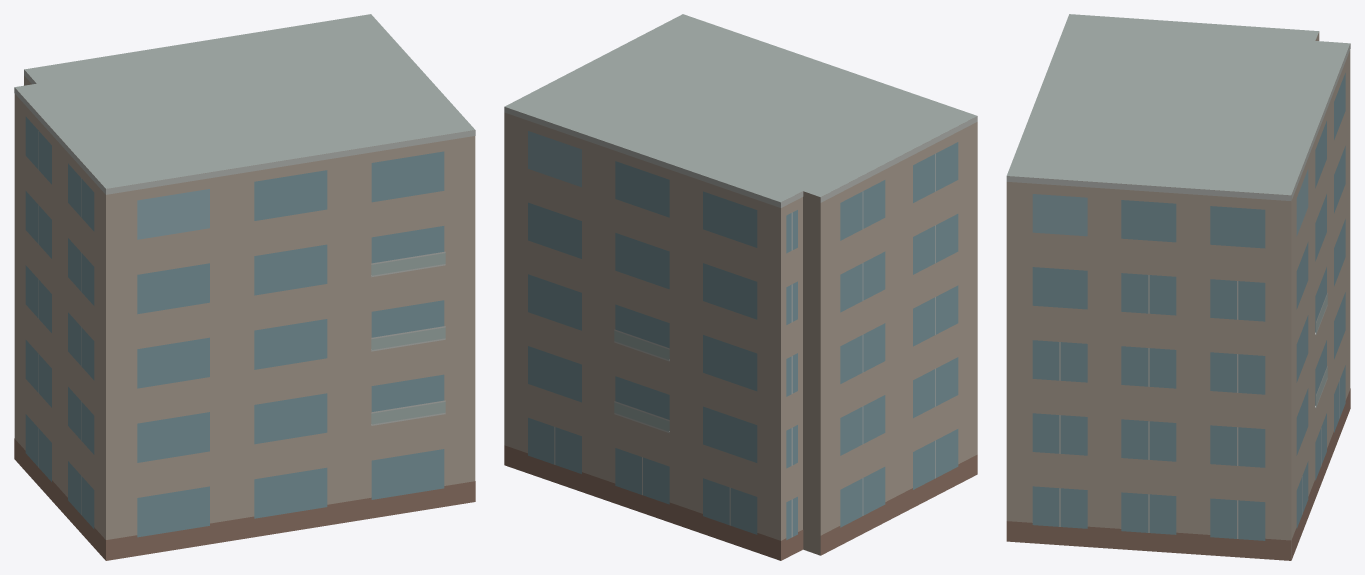
Rendered from survey-upis-32616458.glb.
The picture shows the model from 3 angles, left to right: view 1: azimuth 30°, elevation 25°; view 2: azimuth 150°, elevation 25°; view 3: azimuth 270°, elevation 25°; orthographic projection. The views are drawn at different scales.
Parts seen in each view (by area): view 1: survey-upis-32616458.tmp; view 2: survey-upis-32616458.tmp; view 3: survey-upis-32616458.tmp.
Part boxes in pixels (x1=…): survey-upis-32616458.tmp: x1=14, y1=14, x2=475, y2=560; survey-upis-32616458.tmp: x1=504, y1=14, x2=977, y2=560; survey-upis-32616458.tmp: x1=1006, y1=14, x2=1350, y2=560.
Size of the model in its own units: 16.23 by 15.25 by 13.01.
